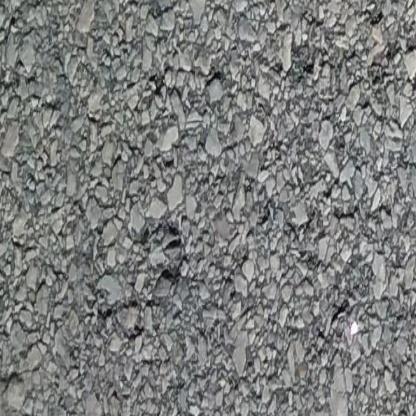Cracks: (265, 0, 368, 416)
